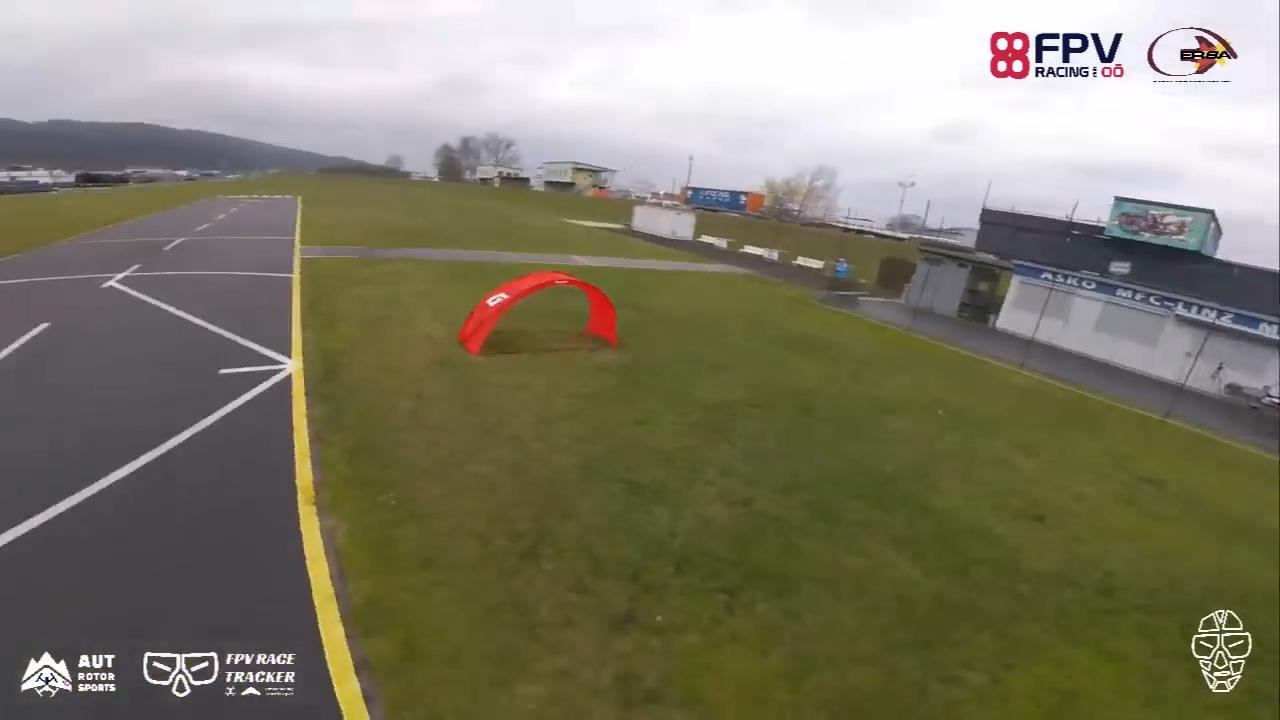gate: (456, 269, 621, 357)
